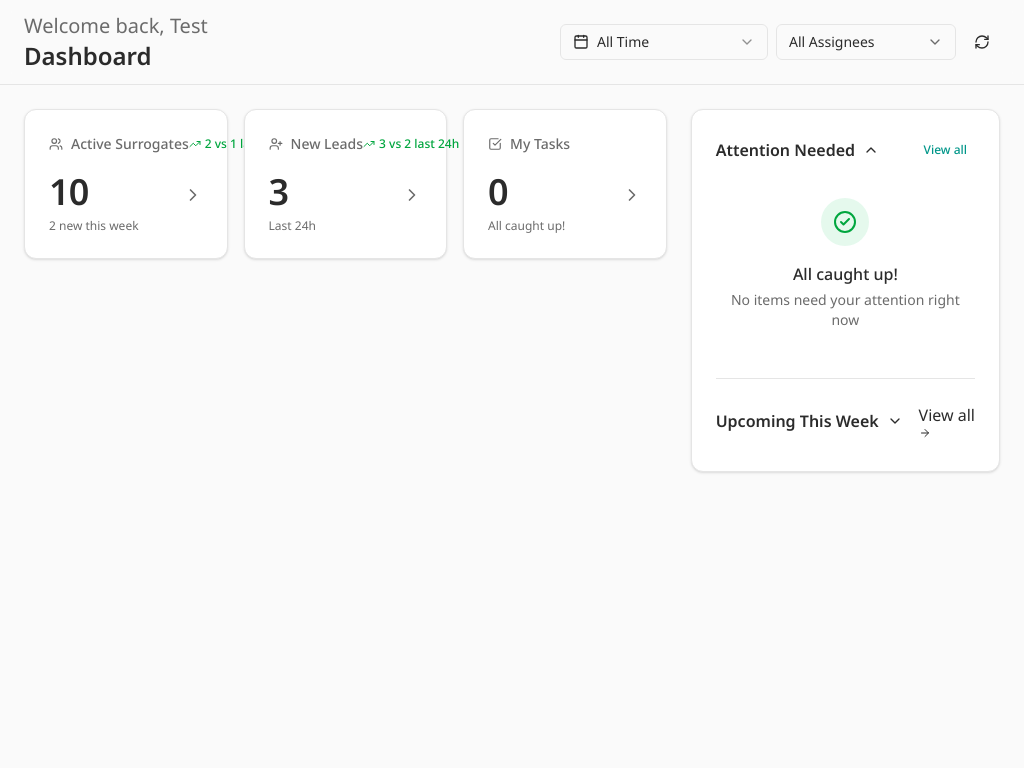
Test: DashboardPage › limits upcoming list and collapses overdue items
Click the button "Upcoming This Week".
click(809, 421)  # box [716,409,903,433]
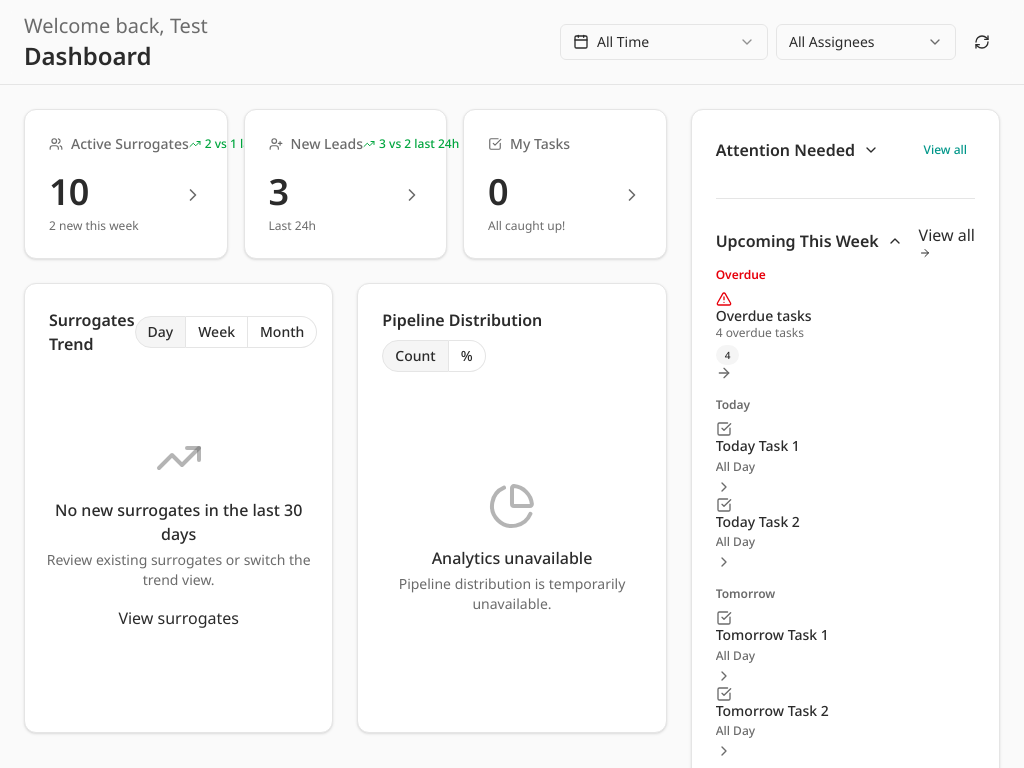
Check: the text "Overdue tasks" is shown, box [716,306,812,325]
